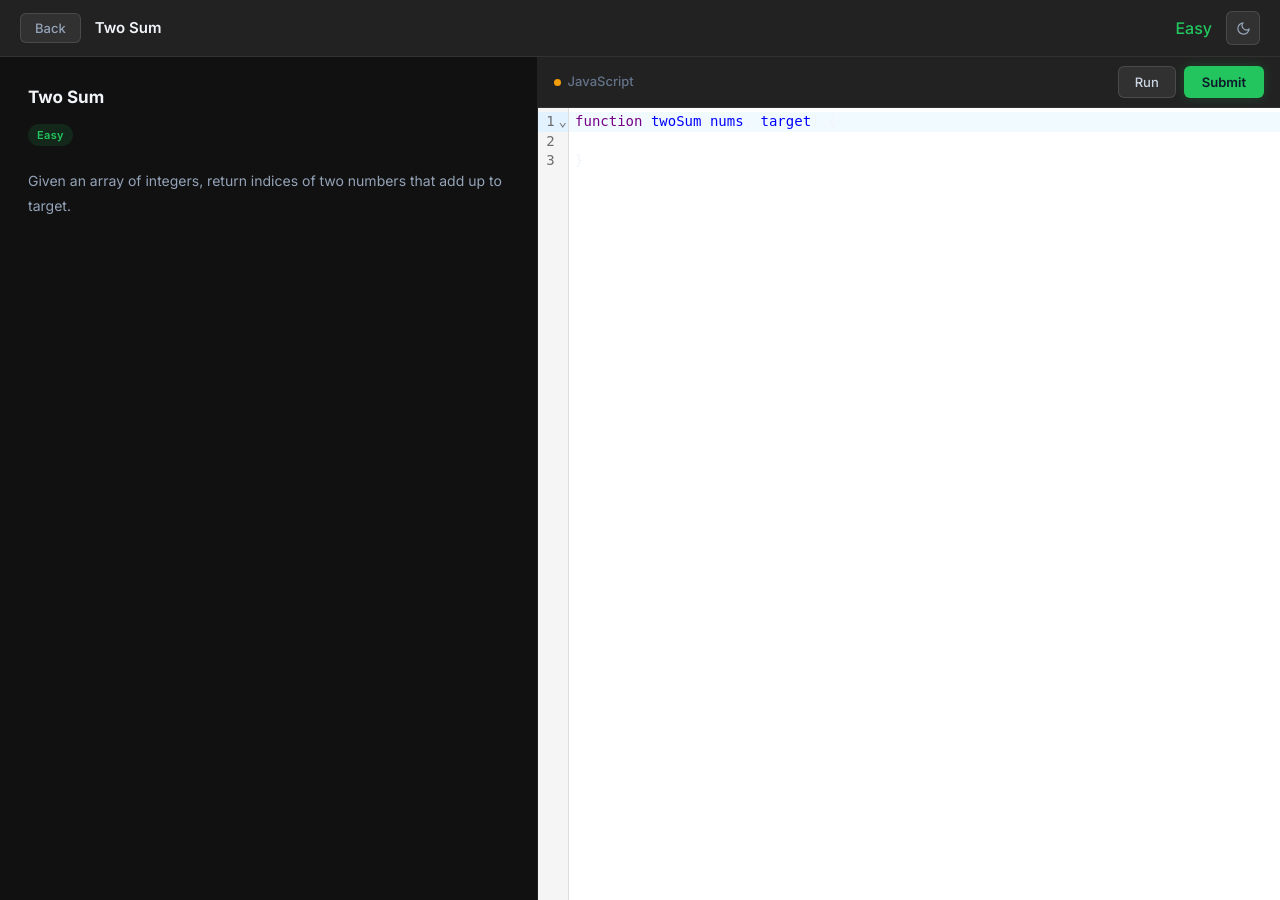
Test: Run and Submit buttons are disabled while running
Click the button "Run". click: click(1147, 82)
box: 1118,66 -> 1176,98
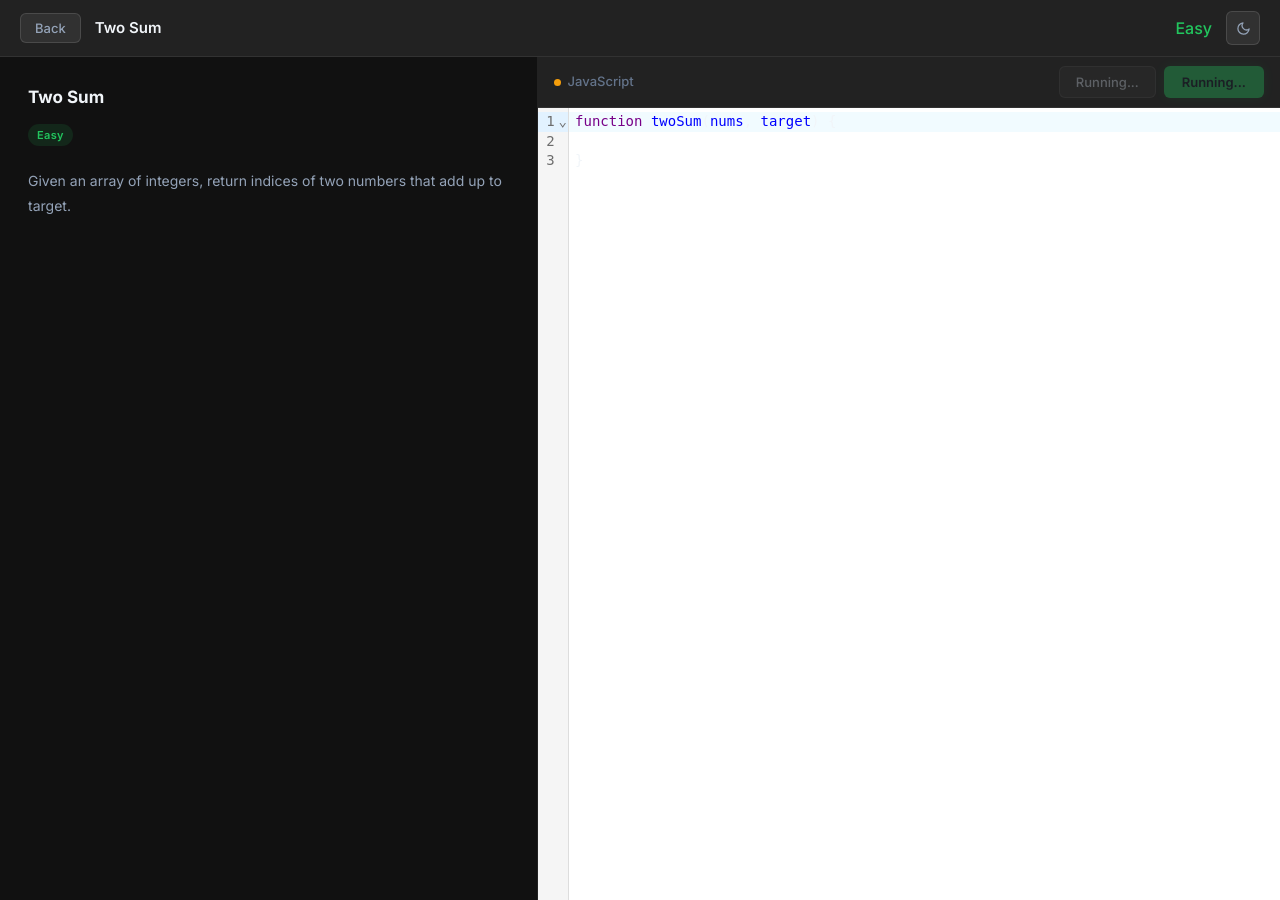
expect the 1st button "Running..." is disabled: met, box 1059,66 -> 1156,98
expect the 2nd button "Running..." is disabled: met, box 1164,66 -> 1264,98
